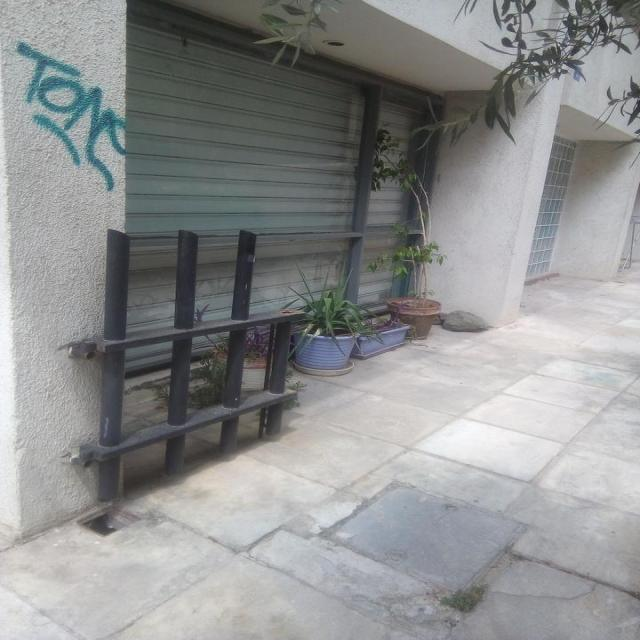nonspitting: (16, 41, 127, 194)
